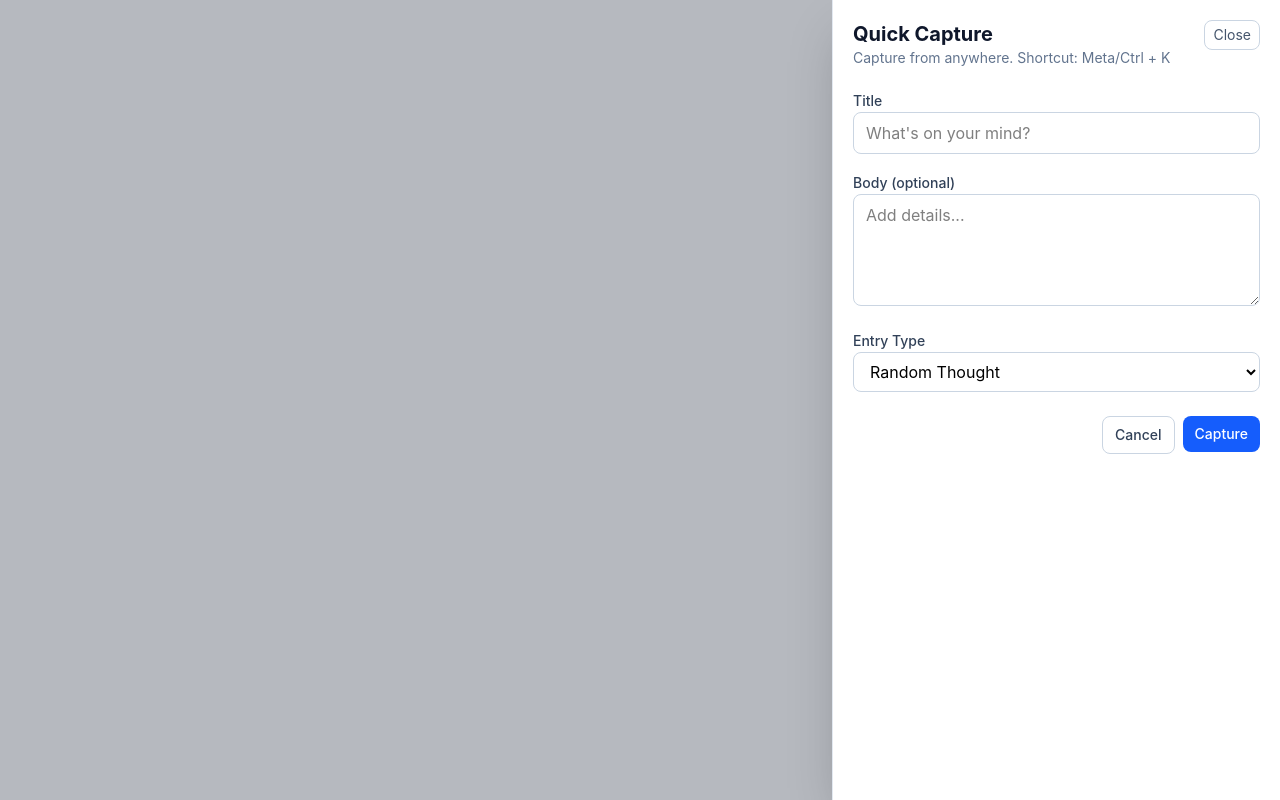
Test case: almanac coverage-critical files › quick capture panel surfaces errors
The image size is (1280, 800).
Type "Failed note" into the field with placeholder "What's on your mind?". click: {"x": 1056, "y": 133}
box: [853, 112, 1260, 154]
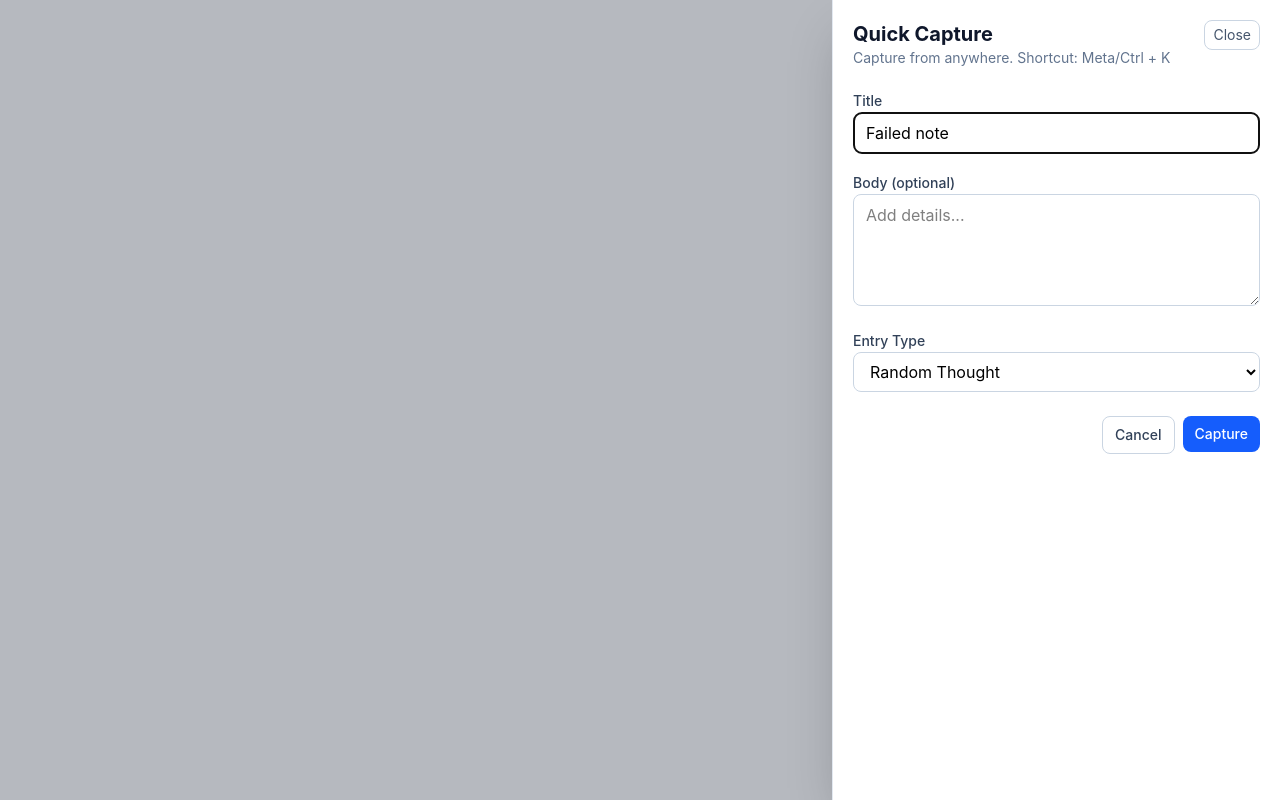
Click the button "Capture". click: {"x": 1221, "y": 434}
box: [1183, 416, 1260, 452]
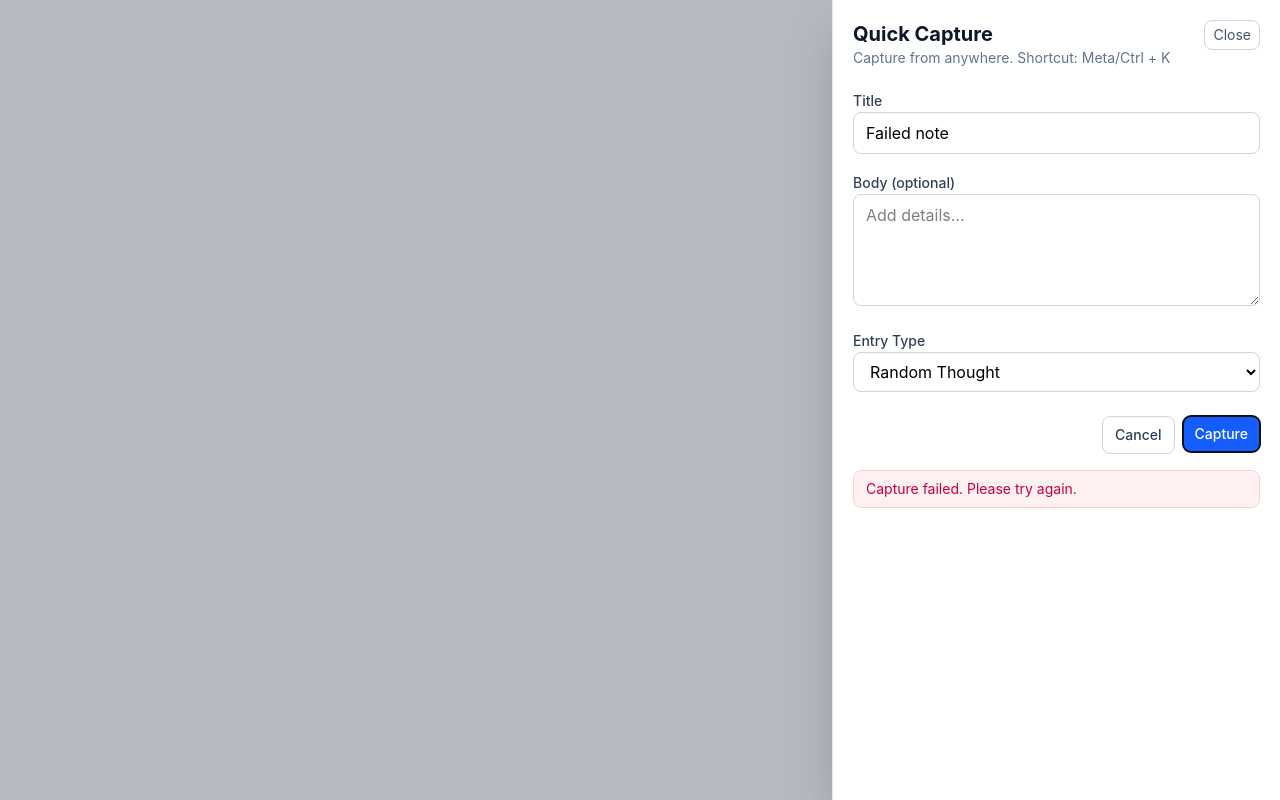
Check: the text "Capture failed. Please try again." is shown, box [853, 470, 1260, 508]
